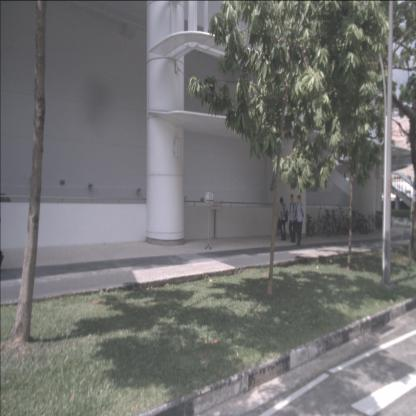human-pedestrian-adult: (286, 194, 297, 243), (276, 198, 288, 240), (296, 194, 304, 246)
